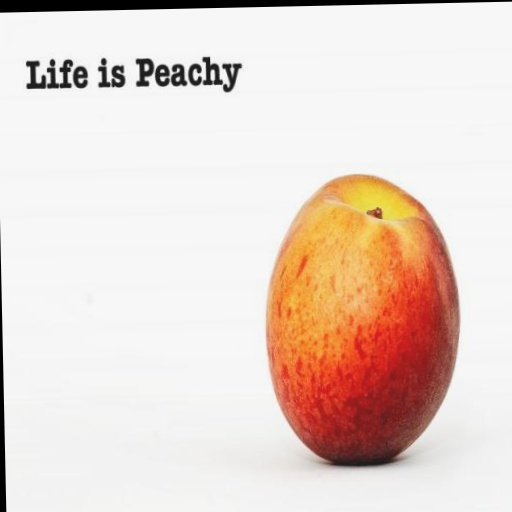fruit: (267, 175, 459, 463)
